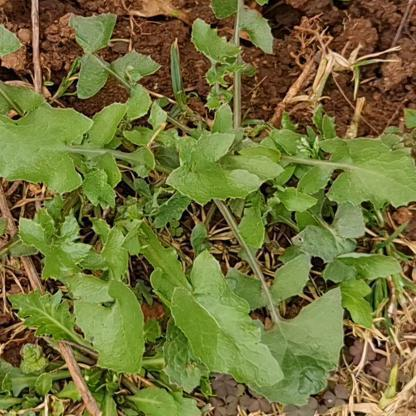Weeds: (3, 3, 415, 411)
